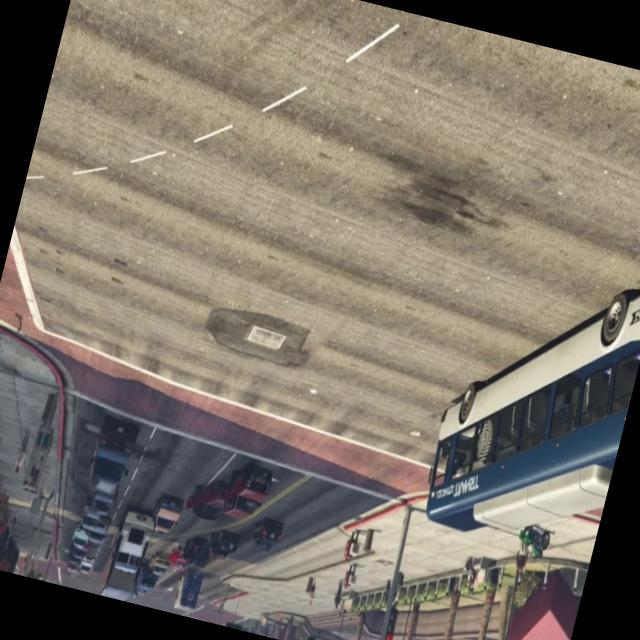Red-Signal: (373, 590, 410, 640), (219, 611, 252, 632), (297, 623, 327, 640)
